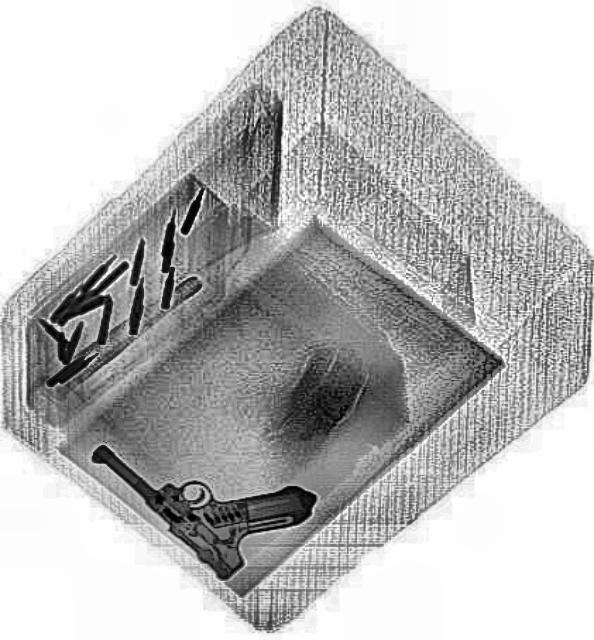Gun: (83, 366, 321, 594)
